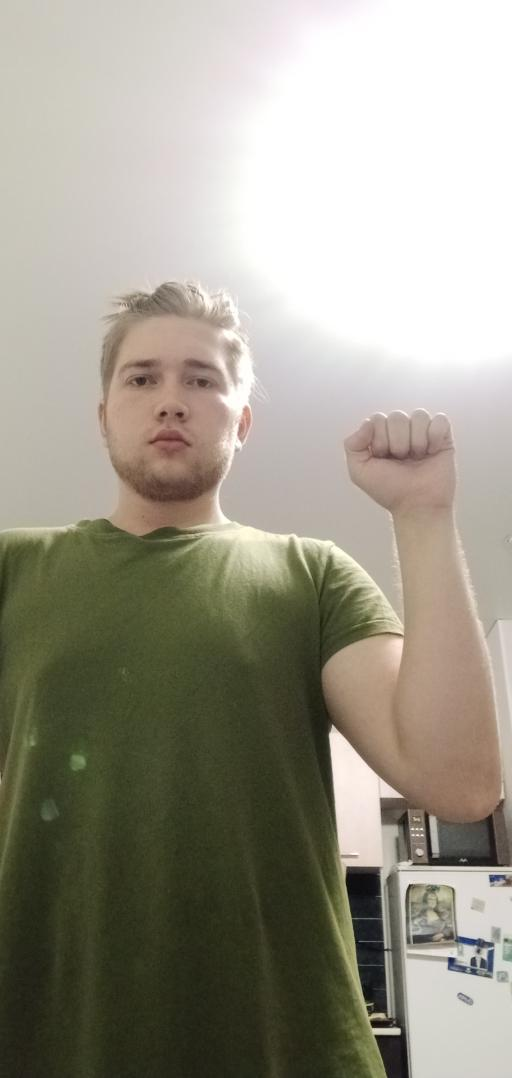fist: (342, 406, 459, 512)
